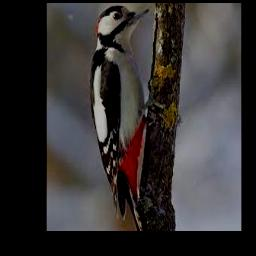Woodpecker: (89, 5, 161, 231)
